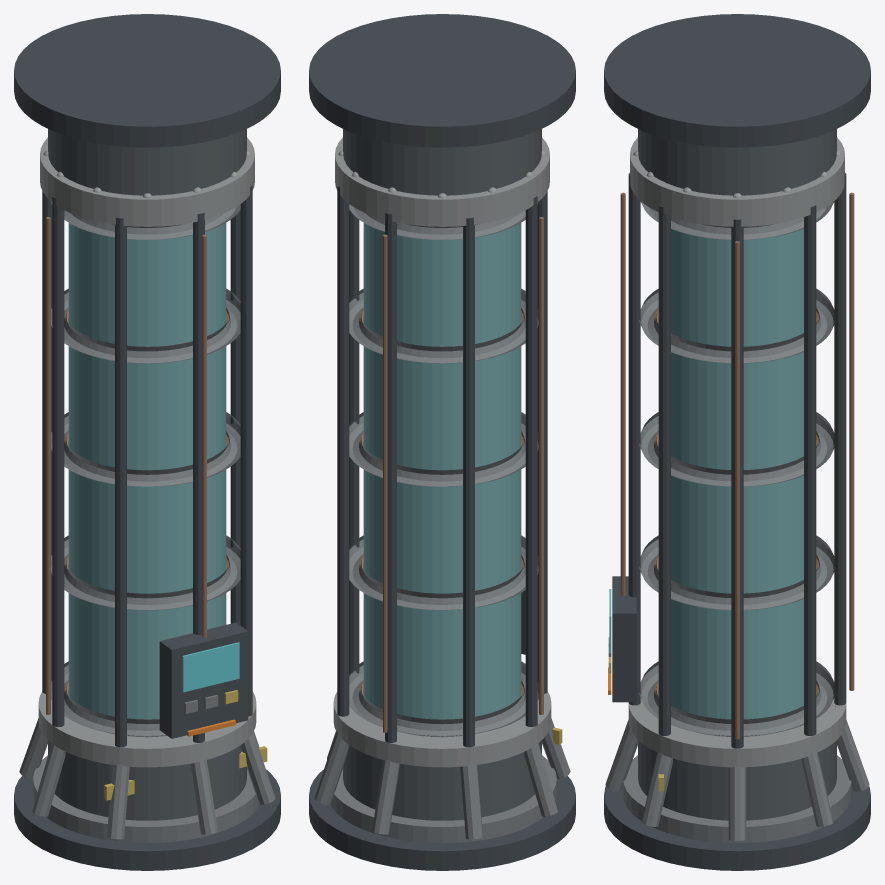
File: Reactor_01.glb
3 renders of one model, left to right at view 1: azimuth 30°, elevation 25°; view 2: azimuth 150°, elevation 25°; view 3: azimuth 270°, elevation 25°, orthographic.
Visible parts, largest first — view 1: Glass_Chamber, Ceiling_Mount, Upper_Pedestal, Foundation_Base, Lower_Pedestal, Upper_Cap, Vertical_Support_04, Vertical_Support_03, Lower_Socket, Control_Mount, Vertical_Support_01, Foundation_Bevel (+16 smaller); view 2: Glass_Chamber, Ceiling_Mount, Upper_Pedestal, Foundation_Base, Lower_Pedestal, Upper_Cap, Vertical_Support_04, Vertical_Support_07, Lower_Socket, Vertical_Support_05, Vertical_Support_06, Foundation_Bevel (+14 smaller); view 3: Glass_Chamber, Ceiling_Mount, Upper_Pedestal, Foundation_Base, Lower_Pedestal, Upper_Cap, Vertical_Support_01, Vertical_Support_07, Lower_Socket, Vertical_Support_06, Vertical_Support_02, Foundation_Bevel (+15 smaller).
Boxes of the visible parts, left/top/right/bottom form: Glass_Chamber: left=68, top=223, right=226, bottom=719; Ceiling_Mount: left=14, top=14, right=280, bottom=147; Upper_Pedestal: left=48, top=129, right=246, bottom=195; Foundation_Base: left=14, top=769, right=280, bottom=870; Lower_Pedestal: left=48, top=740, right=246, bottom=820; Upper_Cap: left=40, top=137, right=254, bottom=226; Vertical_Support_04: left=52, top=196, right=64, bottom=726; Vertical_Support_03: left=115, top=217, right=126, bottom=747; Lower_Socket: left=38, top=691, right=256, bottom=767; Control_Mount: left=159, top=622, right=248, bottom=738; Vertical_Support_01: left=240, top=184, right=252, bottom=716; Foundation_Bevel: left=33, top=755, right=259, bottom=843; Glass_Chamber: left=363, top=223, right=521, bottom=719; Ceiling_Mount: left=309, top=14, right=575, bottom=147; Upper_Pedestal: left=343, top=129, right=541, bottom=195; Foundation_Base: left=309, top=769, right=575, bottom=870; Lower_Pedestal: left=343, top=740, right=541, bottom=820; Upper_Cap: left=335, top=137, right=549, bottom=226; Vertical_Support_04: left=525, top=196, right=537, bottom=726; Vertical_Support_07: left=337, top=184, right=349, bottom=716; Lower_Socket: left=333, top=691, right=551, bottom=767; Vertical_Support_05: left=463, top=217, right=474, bottom=747; Vertical_Support_06: left=385, top=212, right=396, bottom=742; Foundation_Bevel: left=330, top=755, right=556, bottom=843; Glass_Chamber: left=671, top=229, right=803, bottom=719; Ceiling_Mount: left=604, top=14, right=870, bottom=147; Upper_Pedestal: left=638, top=129, right=836, bottom=195; Foundation_Base: left=604, top=786, right=870, bottom=870; Lower_Pedestal: left=638, top=740, right=836, bottom=820; Upper_Cap: left=630, top=137, right=844, bottom=226; Vertical_Support_01: left=658, top=205, right=670, bottom=735; Vertical_Support_07: left=804, top=205, right=816, bottom=735; Lower_Socket: left=628, top=698, right=846, bottom=767; Vertical_Support_06: left=834, top=173, right=846, bottom=705; Vertical_Support_02: left=628, top=173, right=640, bottom=705; Foundation_Bevel: left=623, top=755, right=851, bottom=843.
Size of the model in its own units: 1.96 by 6.03 by 1.96.
